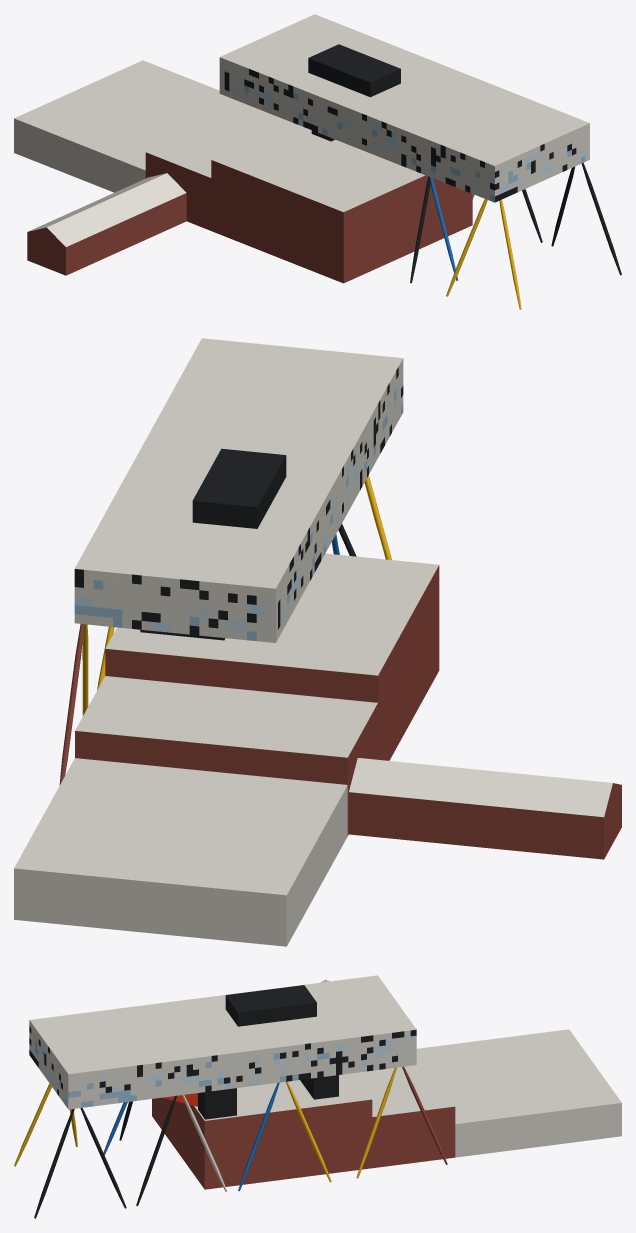
File: sharp-centre-for-design-far.glb
3 views of the same model, one above another, from view 1: azimuth 30°, elevation 25°; view 2: azimuth 150°, elevation 25°; view 3: azimuth 270°, elevation 25° (orthographic). The views are drawn at different scales.
Parts seen in each view (by area): view 1: sharp-centre-for-design-0-panel_white, sharp-centre-for-design-0-brick, sharp-centre-for-design-0-panel_black, sharp-centre-for-design-0-glow, sharp-centre-for-design-0-leg_yellow, sharp-centre-for-design-0-glass, sharp-centre-for-design-0-leg_blue; view 2: sharp-centre-for-design-0-panel_white, sharp-centre-for-design-0-brick, sharp-centre-for-design-0-panel_black, sharp-centre-for-design-0-glow, sharp-centre-for-design-0-leg_yellow, sharp-centre-for-design-0-glass; view 3: sharp-centre-for-design-0-panel_white, sharp-centre-for-design-0-brick, sharp-centre-for-design-0-panel_black, sharp-centre-for-design-0-leg_yellow, sharp-centre-for-design-0-glow, sharp-centre-for-design-0-glass, sharp-centre-for-design-0-leg_blue.
Boxes of the visible parts, left/top/right/bottom form: sharp-centre-for-design-0-panel_white: left=14, top=14, right=589, bottom=246; sharp-centre-for-design-0-brick: left=27, top=152, right=472, bottom=283; sharp-centre-for-design-0-panel_black: left=224, top=44, right=621, bottom=283; sharp-centre-for-design-0-glow: left=229, top=85, right=585, bottom=194; sharp-centre-for-design-0-leg_yellow: left=446, top=199, right=521, bottom=309; sharp-centre-for-design-0-glass: left=244, top=85, right=585, bottom=202; sharp-centre-for-design-0-leg_blue: left=430, top=177, right=458, bottom=280; sharp-centre-for-design-0-panel_white: left=14, top=338, right=612, bottom=946; sharp-centre-for-design-0-brick: left=59, top=565, right=621, bottom=859; sharp-centre-for-design-0-panel_black: left=74, top=367, right=403, bottom=640; sharp-centre-for-design-0-glow: left=74, top=376, right=403, bottom=632; sharp-centre-for-design-0-leg_yellow: left=82, top=475, right=391, bottom=715; sharp-centre-for-design-0-glass: left=74, top=389, right=403, bottom=641; sharp-centre-for-design-0-panel_white: left=29, top=975, right=621, bottom=1191; sharp-centre-for-design-0-brick: left=152, top=1066, right=455, bottom=1189; sharp-centre-for-design-0-panel_black: left=29, top=985, right=416, bottom=1218; sharp-centre-for-design-0-leg_yellow: left=14, top=1067, right=396, bottom=1182; sharp-centre-for-design-0-glow: left=31, top=1035, right=416, bottom=1100; sharp-centre-for-design-0-glass: left=35, top=1040, right=329, bottom=1107; sharp-centre-for-design-0-leg_blue: left=103, top=1082, right=279, bottom=1191.
Bounding box in the file's own units: 111 × 38.68 × 140.
